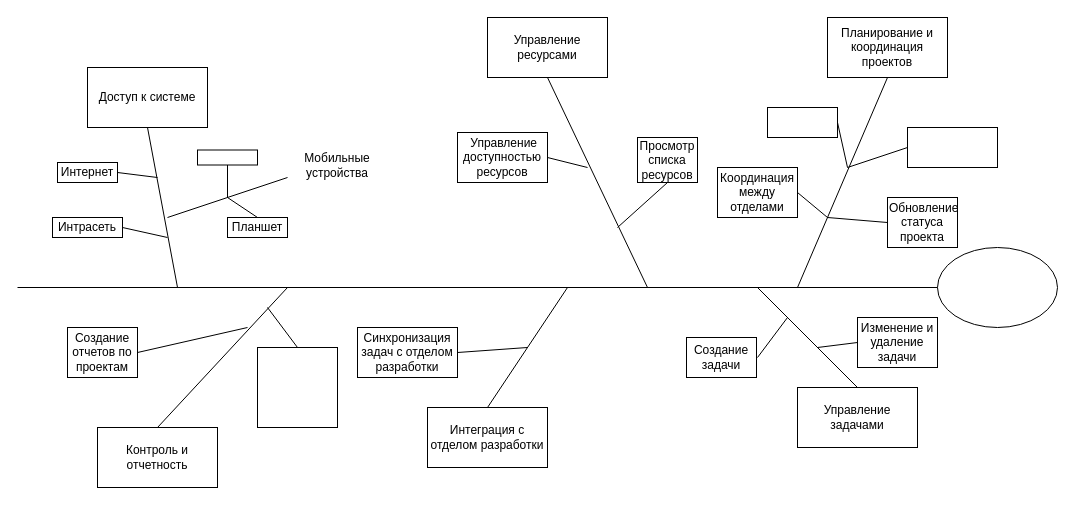
This 1075x505 diagram has some shape labels left out. The centre of each missing label's shape, as x and y in pixels:
"Контроль выполнения задач и соблюдения сроков" goes at point 297,387.
"Планирование задач и сроков" goes at point 952,147.
"Система DigitalSolutions Manage" goes at point 997,287.
"Смартфон" goes at point 227,157.
"Создание проекта" goes at point 802,122.
